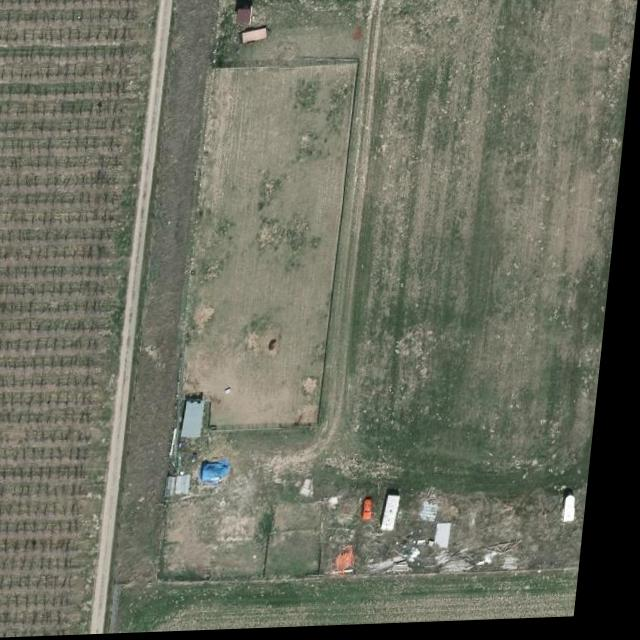vehicle: (370, 501, 389, 524)
